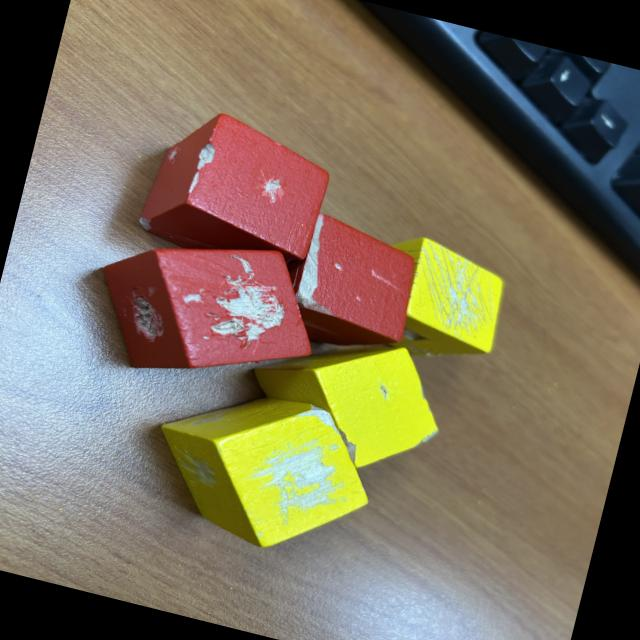broken: (137, 368, 390, 570), (80, 209, 334, 410), (235, 312, 458, 486), (133, 97, 340, 278), (267, 206, 428, 362), (362, 228, 514, 374)
